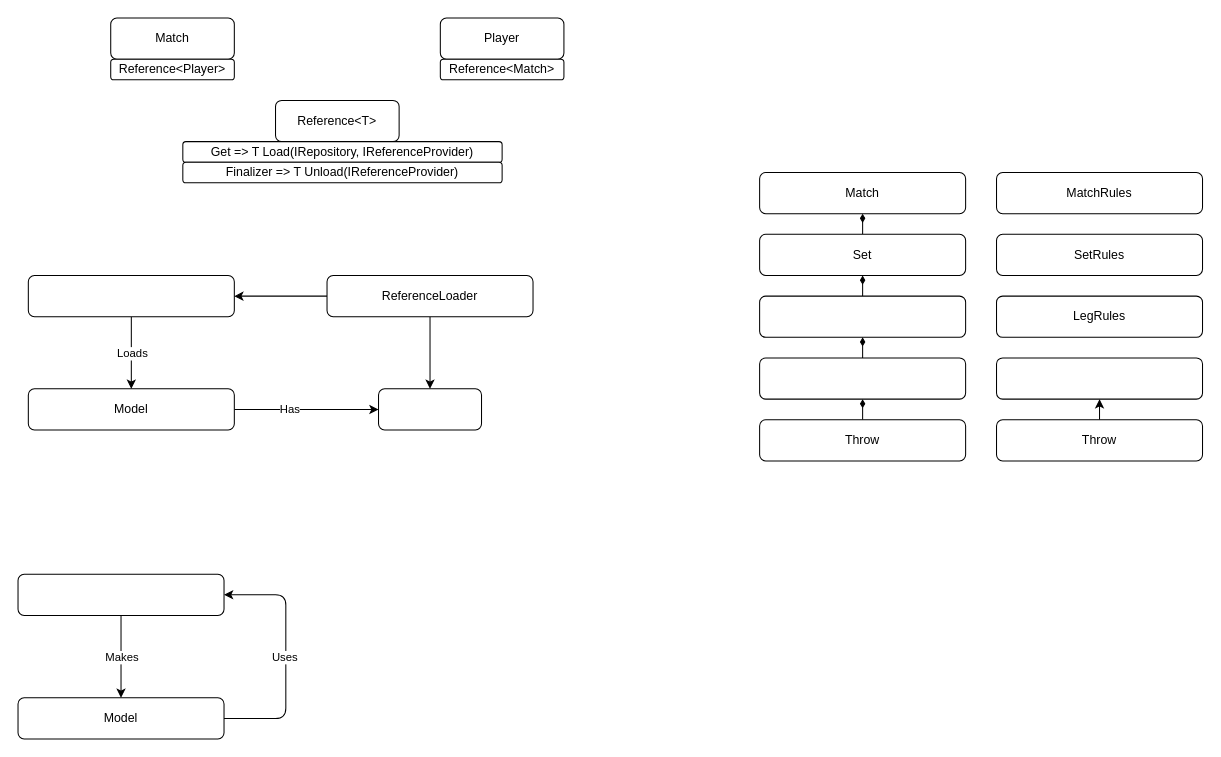
Image size: 1221x757. Some labels were removed from this diagram. The shapes that lost their labels are listed below. From the top down, each one's centre as x and y in pixels, then its label:
At pixel 130 295: "Repository".
At pixel 862 316: "Leg".
At pixel 862 378: "Turn".
At pixel 1099 378: "TurnRules".
At pixel 429 409: "Reference".
At pixel 120 594: "Factory".
